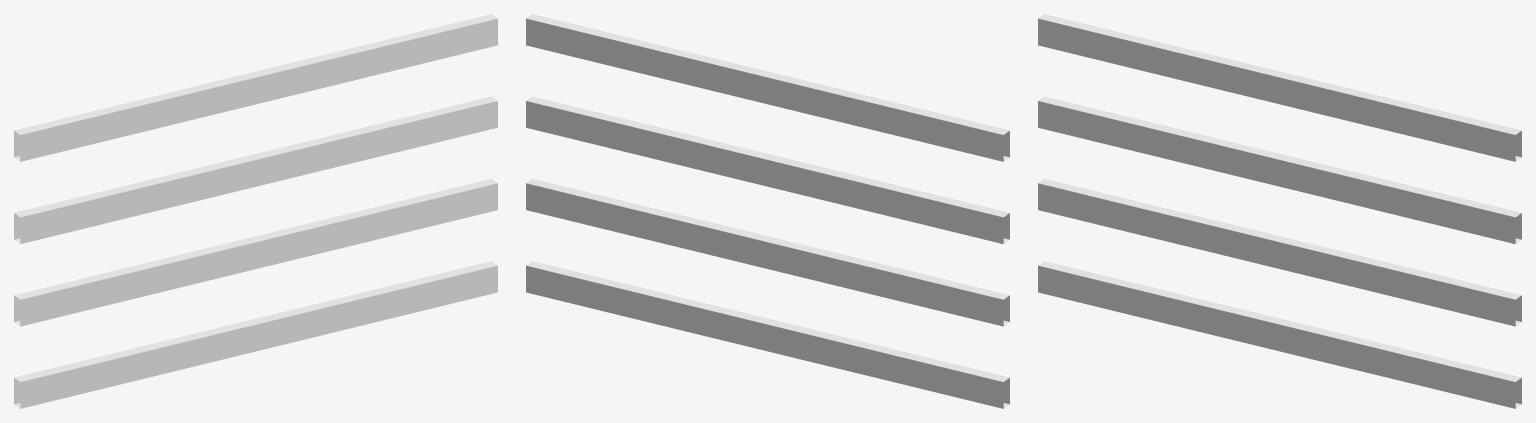
The model's file is Bld_01_Fence_Wood_01.glb.
The picture shows the model from 3 angles, left to right: view 1: azimuth 30°, elevation 25°; view 2: azimuth 150°, elevation 25°; view 3: azimuth 330°, elevation 25°; orthographic projection.
Visible parts, largest first — view 1: Bld_01_Fence_Wood_01; view 2: Bld_01_Fence_Wood_01; view 3: Bld_01_Fence_Wood_01.
Boxes of the visible parts, x1,y1,x2,y2 form: Bld_01_Fence_Wood_01: [14, 14, 497, 408]; Bld_01_Fence_Wood_01: [526, 14, 1009, 408]; Bld_01_Fence_Wood_01: [1038, 14, 1521, 408].
Size of the model in its own units: 1.8 by 0.9865 by 0.0408.
Materials: 1 (1 with a texture image).
